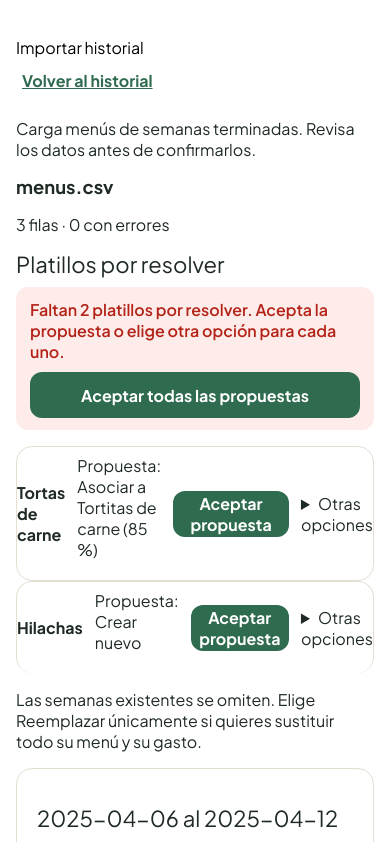
Scenario: HU-17 Resolver platillos nuevos al importar › acepta todas las propuestas con una sola acción y habilita la confirmación
The width and height of the screenshot is (390, 842).
Click the button "Aceptar todas las propuestas": (195, 396) [30,372,360,418]
(page scrolled)
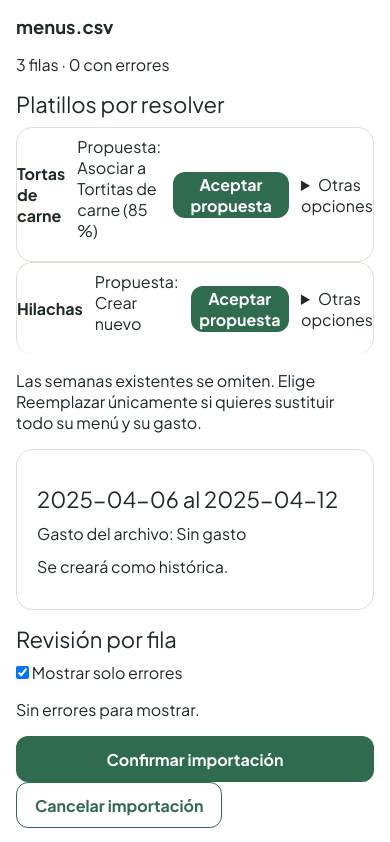
expect the button "Confirmar importación" is enabled: met, box [16,736,374,782]
expect the text "por resolver." is gone: met
